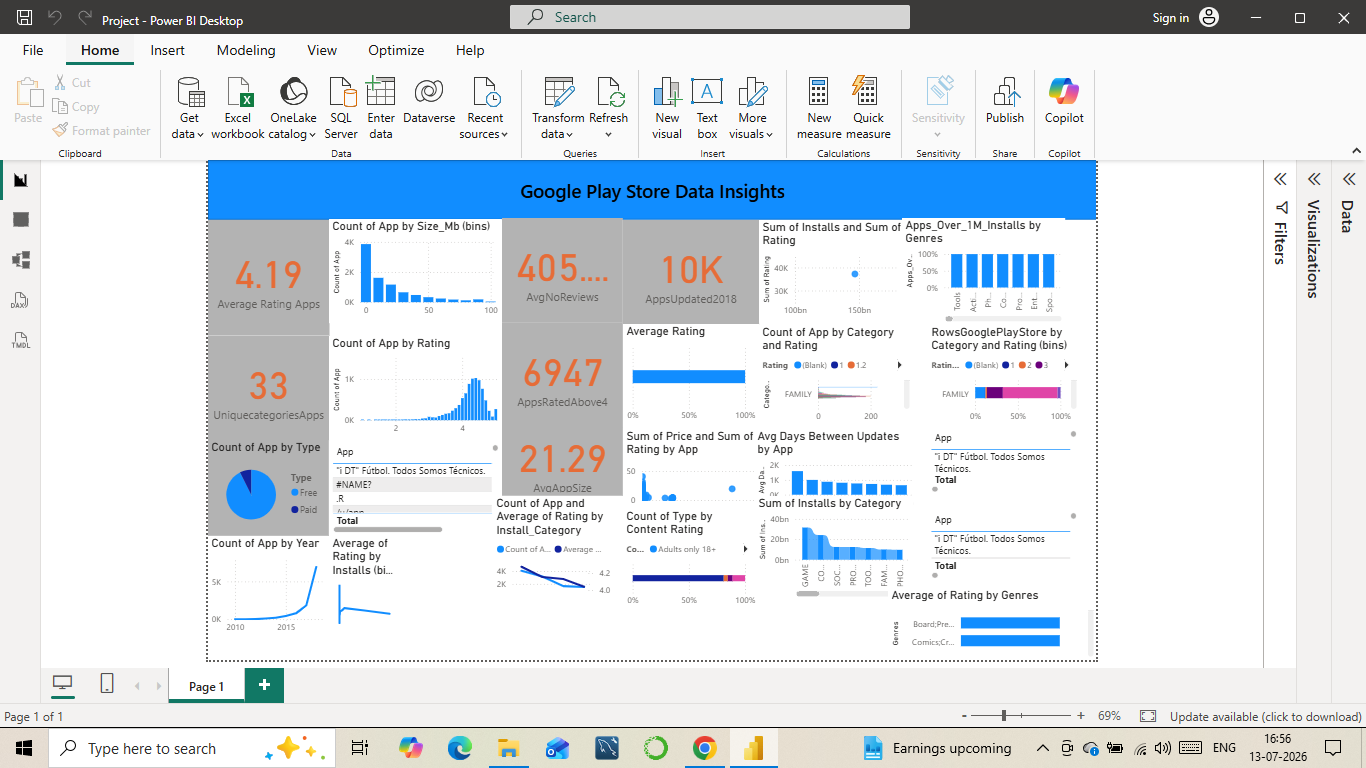

The dashboard page shown, as its layout file describes it:
{"tool":"powerbi","page":{"name":"Page 1","canvas":[1280,720],"ordinal":0},"visuals":[{"type":"card","fields":{"Values":["googleplaystore.Measure"]},"box":[0,85.7,174.7,168],"z":0},{"type":"shape","box":[0,0,1280,85.7],"z":1000},{"type":"card","fields":{"Values":["googleplaystore.UniquecategoriesApps"]},"box":[0,253.6,174.7,149.5],"z":2000},{"type":"clusteredColumnChart","fields":{"Category":["googleplaystore.Size_Mb (bins)"],"Y":["CountNonNull(googleplaystore.App)"]},"box":[174.2,85,249.1,149.8],"z":3000},{"type":"pieChart","fields":{"Y":["CountNonNull(googleplaystore.App)"],"Category":["googleplaystore.Type"]},"box":[0,403.2,174.2,138.2],"z":4000},{"type":"clusteredColumnChart","fields":{"Category":["googleplaystore.Rating"],"Y":["CountNonNull(googleplaystore.App)"]},"box":[174.2,253.4,249.1,151.2],"z":5000},{"type":"tableEx","fields":{"Values":["googleplaystore.App","Sum(googleplaystore.Installs)"]},"box":[174.2,404.6,249.1,136.8],"z":6000},{"type":"card","fields":{"Values":["googleplaystore.Measure"]},"box":[423.4,234.7,174.2,149.8],"z":7000},{"type":"card","fields":{"Values":["googleplaystore.AvgNoReviews"]},"box":[423.4,83.5,174.2,151.2],"z":8000},{"type":"card","fields":{"Values":["googleplaystore.AvgAppSize"]},"box":[423.4,384.5,174.2,99.4],"z":9000},{"type":"card","fields":{"Values":["googleplaystore.AppsUpdated2018M"]},"box":[597.6,86.4,195.8,149.8],"z":10000},{"type":"scatterChart","fields":{"X":["Sum(googleplaystore.Installs)"],"Y":["Sum(googleplaystore.Rating)"]},"box":[793.4,86.4,221.8,148.3],"z":11000},{"type":"hundredPercentStackedBarChart","fields":{"Y":["googleplaystore.Average Rating"]},"box":[597.6,236.2,195.8,149.8],"z":12000},{"type":"scatterChart","fields":{"X":["Sum(googleplaystore.Price)"],"Y":["Sum(googleplaystore.Rating)"],"Category":["googleplaystore.App"]},"box":[597.6,387.4,195.8,116.6],"z":13000},{"type":"clusteredBarChart","fields":{"Category":["googleplaystore.Category"],"Y":["CountNonNull(googleplaystore.App)"],"Series":["googleplaystore.Rating"]},"box":[793.4,237.6,221.8,149.8],"z":14000},{"type":"hundredPercentStackedColumnChart","fields":{"Y":["googleplaystore.Apps_Over_1M_Installs"],"Category":["googleplaystore.Genres"]},"box":[999.4,83.5,234.7,154.1],"z":15000},{"type":"clusteredColumnChart","fields":{"Y":["googleplaystore.Avg Days Between Updates"],"Category":["googleplaystore.App"]},"box":[786.2,387.4,234.7,116.6],"z":16000},{"type":"hundredPercentStackedBarChart","fields":{"Category":["googleplaystore.Category"],"Y":["googleplaystore.RowsGooglePlayStore"],"Series":["googleplaystore.Rating (bins)"]},"box":[1036.8,237.6,218.9,149.8],"z":17000},{"type":"pivotTable","fields":{"Rows":["googleplaystore.App"],"Values":["Sum(googleplaystore.Rating)","Sum(googleplaystore.Reviews)"]},"box":[1036.8,384.5,218.9,99.4],"z":18000},{"type":"hundredPercentStackedBarChart","fields":{"Series":["googleplaystore.Content Rating"],"Y":["CountNonNull(googleplaystore.Type)"]},"box":[597.6,502.6,195.8,149.8],"z":19000},{"type":"ribbonChart","fields":{"Category":["googleplaystore.Category"],"Y":["Sum(googleplaystore.Installs)"]},"box":[787.7,483.8,227.5,149.8],"z":20000},{"type":"pivotTable","fields":{"Rows":["googleplaystore.App"],"Values":["Sum(googleplaystore.Installs)","Sum(googleplaystore.Rating)","Sum(googleplaystore.Reviews)"]},"box":[1036.8,502.6,218.9,105.1],"z":21000},{"type":"lineChart","fields":{"Category":["googleplaystore.Last Updated.Variation.Date Hierarchy.Year"],"Y":["CountNonNull(googleplaystore.App)"]},"box":[0,541,174,150],"z":22000},{"type":"lineChart","fields":{"Y":["Avg(googleplaystore.Rating)"],"Category":["googleplaystore.Installs (bins)"]},"box":[174.2,541.4,102.2,132.5],"z":23000},{"type":"lineChart","fields":{"Category":["googleplaystore.Install_Category"],"Y":["CountNonNull(googleplaystore.App)"],"Y2":["Avg(googleplaystore.Rating)"]},"box":[410.4,483.8,174.2,149.8],"z":24000},{"type":"clusteredBarChart","fields":{"Category":["googleplaystore.Genres"],"Y":["Avg(googleplaystore.Rating)"]},"box":[979.2,616.3,301,103.7],"z":24001}]}

Visuals, with their boxes on the page's 1280x720 design canvas (x1, y1, x2, y2). These are canvas units, not pixel positions in the 1366x768 screenshot, which may show the page scaled, cropped or inside an application window:
card - googleplaystore.Measure: BBox(0, 86, 175, 254)
shape: BBox(0, 0, 1280, 86)
card - googleplaystore.UniquecategoriesApps: BBox(0, 254, 175, 403)
clusteredColumnChart - googleplaystore.Size_Mb (bins) x CountNonNull(googleplaystore.App): BBox(174, 85, 423, 235)
pieChart - CountNonNull(googleplaystore.App) x googleplaystore.Type: BBox(0, 403, 174, 541)
clusteredColumnChart - googleplaystore.Rating x CountNonNull(googleplaystore.App): BBox(174, 253, 423, 405)
tableEx - googleplaystore.App x Sum(googleplaystore.Installs): BBox(174, 405, 423, 541)
card - googleplaystore.Measure: BBox(423, 235, 598, 384)
card - googleplaystore.AvgNoReviews: BBox(423, 84, 598, 235)
card - googleplaystore.AvgAppSize: BBox(423, 384, 598, 484)
card - googleplaystore.AppsUpdated2018M: BBox(598, 86, 793, 236)
scatterChart - Sum(googleplaystore.Installs) x Sum(googleplaystore.Rating): BBox(793, 86, 1015, 235)
hundredPercentStackedBarChart - googleplaystore.Average Rating: BBox(598, 236, 793, 386)
scatterChart - Sum(googleplaystore.Price) x Sum(googleplaystore.Rating): BBox(598, 387, 793, 504)
clusteredBarChart - googleplaystore.Category x CountNonNull(googleplaystore.App): BBox(793, 238, 1015, 387)
hundredPercentStackedColumnChart - googleplaystore.Apps_Over_1M_Installs x googleplaystore.Genres: BBox(999, 84, 1234, 238)
clusteredColumnChart - googleplaystore.Avg Days Between Updates x googleplaystore.App: BBox(786, 387, 1021, 504)
hundredPercentStackedBarChart - googleplaystore.Category x googleplaystore.RowsGooglePlayStore: BBox(1037, 238, 1256, 387)
pivotTable - googleplaystore.App x Sum(googleplaystore.Rating): BBox(1037, 384, 1256, 484)
hundredPercentStackedBarChart - googleplaystore.Content Rating x CountNonNull(googleplaystore.Type): BBox(598, 503, 793, 652)
ribbonChart - googleplaystore.Category x Sum(googleplaystore.Installs): BBox(788, 484, 1015, 634)
pivotTable - googleplaystore.App x Sum(googleplaystore.Installs): BBox(1037, 503, 1256, 608)
lineChart - googleplaystore.Last Updated.Variation.Date Hierarchy.Year x CountNonNull(googleplaystore.App): BBox(0, 541, 174, 691)
lineChart - Avg(googleplaystore.Rating) x googleplaystore.Installs (bins): BBox(174, 541, 276, 674)
lineChart - googleplaystore.Install_Category x CountNonNull(googleplaystore.App): BBox(410, 484, 585, 634)
clusteredBarChart - googleplaystore.Genres x Avg(googleplaystore.Rating): BBox(979, 616, 1280, 720)
